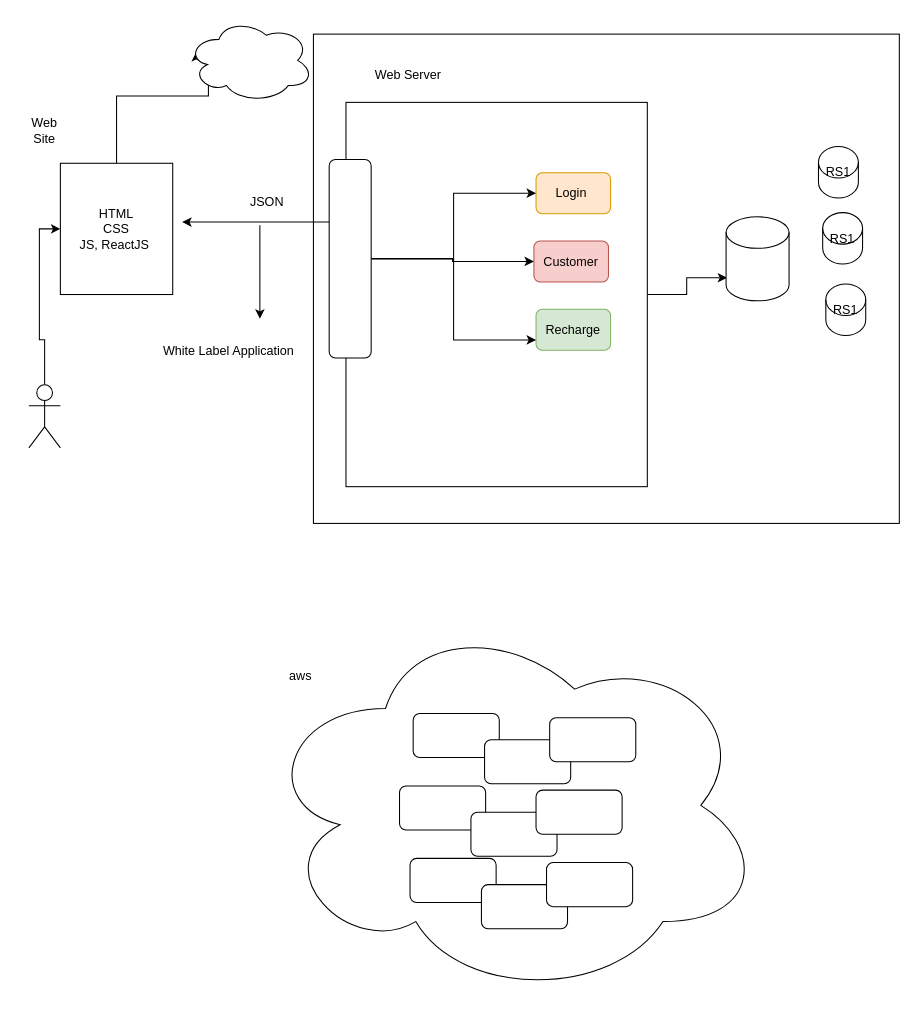
Some shapes in this 918 by 1017 pixel diagram are drawn without their labels. The centre of each missing label's shape, as x and y in pixels:
"CDN - NPM" belongs at pixel 249 59.
"db - MongoDB" belongs at pixel 757 258.
"End User" belongs at pixel 44 416.
"NGIX" belongs at pixel 349 258.
